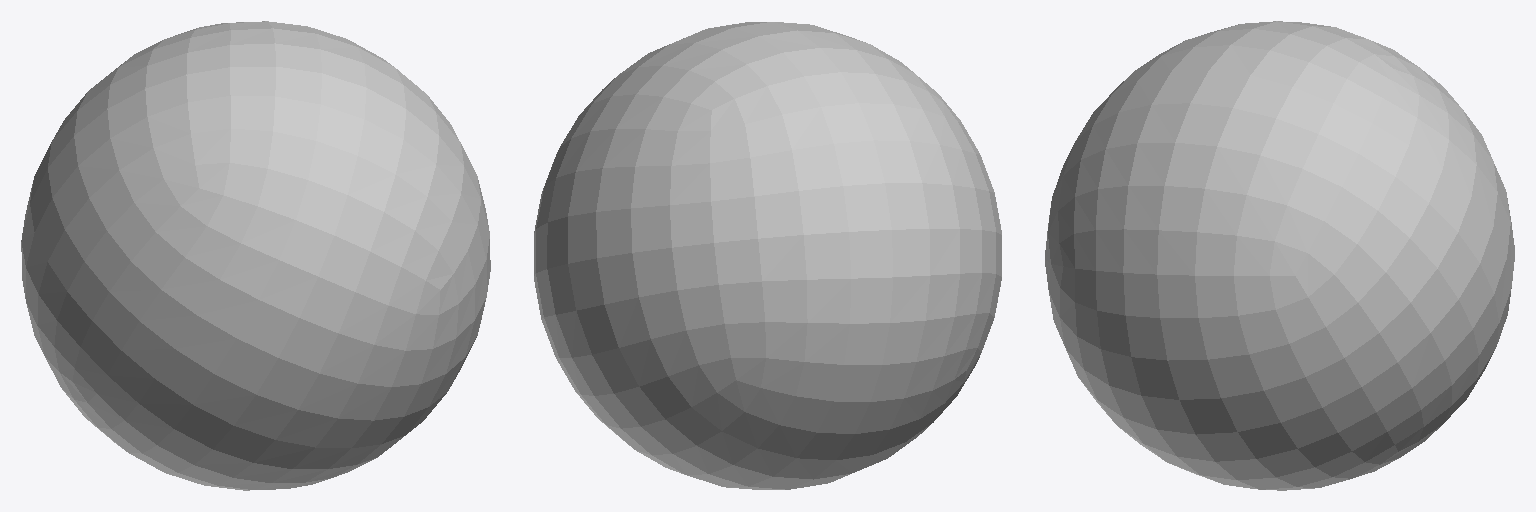
File: mercury.obj
3 renders of one model, left to right at view 1: azimuth 30°, elevation 25°; view 2: azimuth 150°, elevation 25°; view 3: azimuth 270°, elevation 25°, orthographic.
Visible parts, largest first — view 1: Mercury; view 2: Mercury; view 3: Mercury.
Boxes of the visible parts, <box> form: Mercury: <box>21,21,490,490</box>; Mercury: <box>534,22,1001,489</box>; Mercury: <box>1045,21,1514,490</box>.
Size of the model in its own units: 0.4749 by 0.4743 by 0.4759.